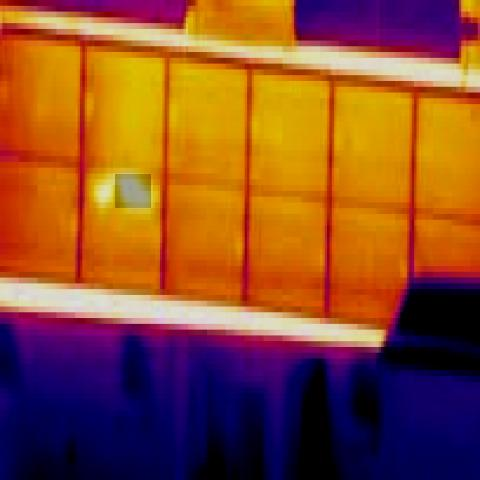fault: (115, 174, 151, 208), (94, 185, 111, 202)
